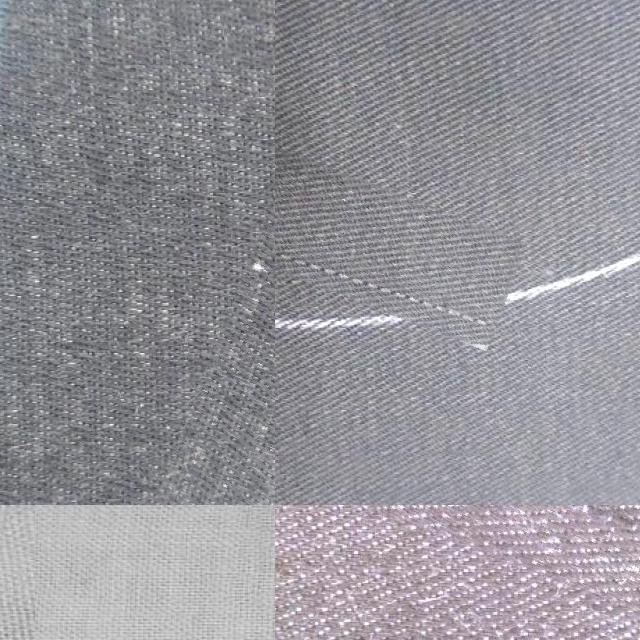stains: (275, 156, 522, 324), (193, 0, 275, 505), (275, 505, 640, 596)
